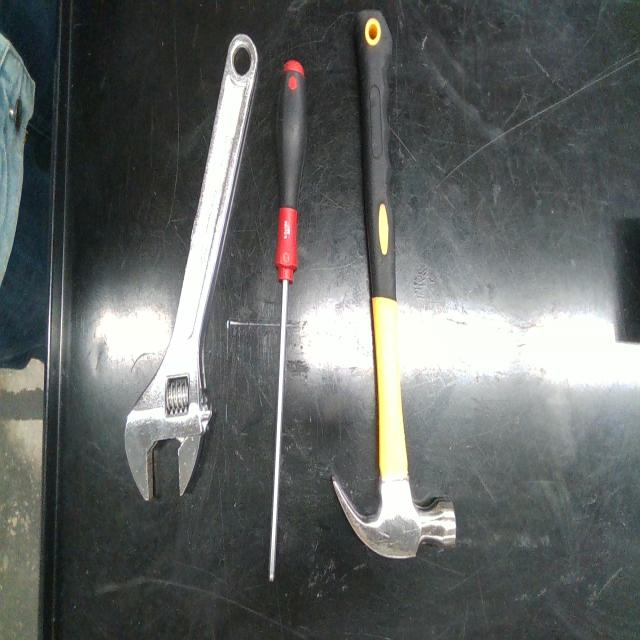Screwdriver: (269, 60, 306, 582)
